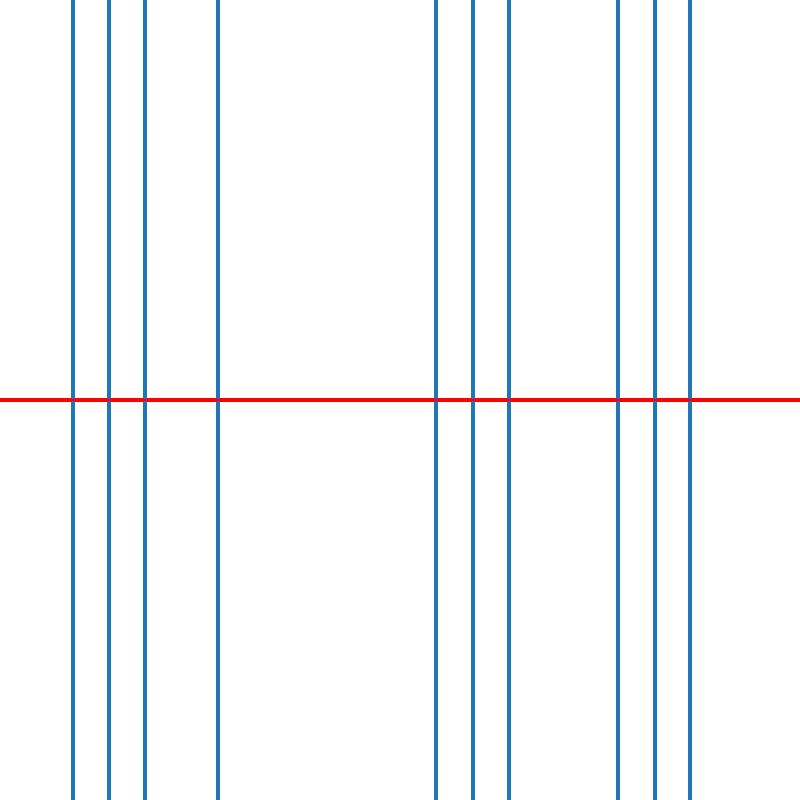root: (432, 396, 440, 404), (141, 396, 149, 404), (650, 396, 658, 404), (214, 396, 221, 404), (505, 396, 512, 404), (614, 396, 621, 404), (469, 396, 476, 404), (105, 396, 112, 404), (69, 396, 76, 404), (687, 396, 694, 404)
